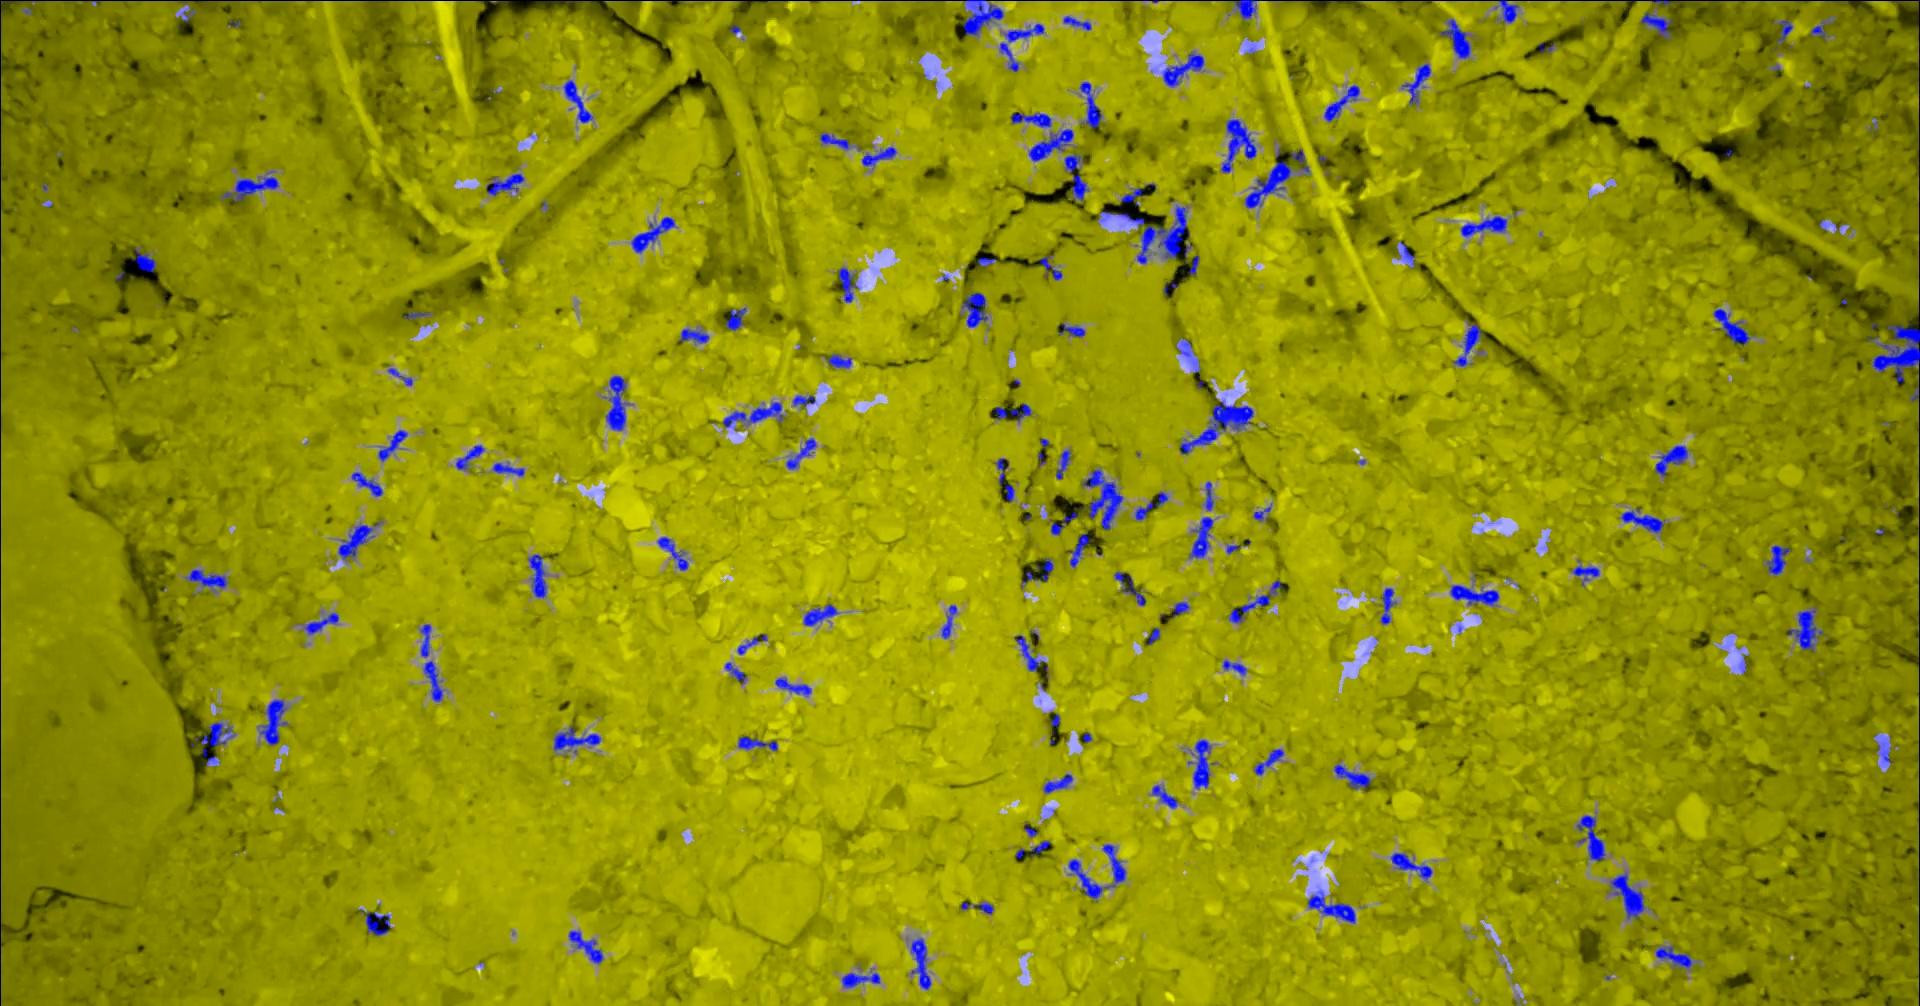ant: (1068, 843, 1125, 898), (1244, 147, 1291, 207), (1082, 469, 1123, 528), (1228, 580, 1283, 622), (1220, 119, 1256, 171), (194, 721, 235, 765), (1307, 890, 1355, 923), (631, 216, 674, 251), (1610, 874, 1644, 918), (1787, 608, 1822, 650), (723, 401, 783, 426), (1029, 128, 1073, 161), (963, 0, 1003, 36), (604, 375, 630, 431), (220, 177, 278, 201), (1162, 52, 1203, 86), (1015, 634, 1048, 676), (1713, 307, 1750, 344), (337, 525, 375, 559), (1439, 18, 1470, 58), (1187, 739, 1214, 788), (1323, 85, 1359, 121), (563, 79, 592, 122), (552, 725, 599, 752), (1576, 815, 1604, 860), (259, 699, 286, 744), (1453, 323, 1481, 366), (1401, 64, 1430, 104), (1620, 507, 1663, 533), (1064, 152, 1088, 199), (568, 930, 602, 963), (1390, 852, 1432, 879), (1112, 572, 1145, 605), (657, 536, 688, 570), (1655, 445, 1688, 476), (1189, 516, 1213, 558), (910, 937, 930, 989), (1079, 81, 1101, 127), (1460, 215, 1506, 236), (1450, 584, 1498, 605), (785, 437, 815, 469), (378, 429, 408, 461), (1134, 492, 1167, 520), (1333, 763, 1371, 788), (485, 173, 523, 196), (961, 292, 987, 326), (1641, 11, 1671, 39), (1021, 558, 1051, 586), (527, 554, 546, 597), (994, 459, 1013, 500), (1655, 945, 1691, 967), (423, 661, 442, 701), (861, 146, 897, 168), (803, 603, 838, 625), (350, 471, 382, 495), (1067, 533, 1090, 567), (1255, 748, 1283, 775), (303, 612, 338, 634), (837, 267, 857, 302), (185, 569, 226, 587), (361, 909, 389, 935), (1766, 545, 1790, 574), (775, 677, 811, 696), (990, 403, 1030, 420), (1004, 23, 1043, 41), (455, 445, 483, 469), (737, 633, 767, 654), (1010, 112, 1051, 127), (131, 246, 155, 272), (1050, 511, 1077, 533), (1150, 785, 1177, 808), (1571, 559, 1599, 580), (1037, 255, 1062, 279), (841, 972, 879, 987), (737, 735, 777, 749), (1380, 587, 1396, 624), (999, 42, 1018, 71), (1043, 774, 1072, 793), (1229, 0, 1257, 19), (819, 132, 850, 149), (941, 605, 956, 638), (1495, 0, 1517, 22), (1289, 149, 1309, 173), (1120, 187, 1145, 206), (724, 662, 745, 683), (725, 307, 745, 330), (1055, 450, 1070, 479), (387, 367, 411, 385), (1063, 15, 1091, 30), (491, 462, 524, 475), (679, 328, 709, 342), (1057, 323, 1084, 337), (960, 902, 993, 913), (1777, 19, 1792, 43), (1651, 0, 1721, 5), (1399, 241, 1415, 264), (420, 622, 430, 657), (1222, 661, 1246, 674), (1029, 840, 1050, 855), (827, 354, 851, 367), (1170, 601, 1189, 616), (1204, 481, 1213, 511), (1810, 22, 1825, 38), (1176, 339, 1191, 356), (792, 395, 815, 405), (1163, 279, 1177, 296), (1253, 506, 1270, 520), (1877, 744, 1890, 762), (1147, 627, 1159, 644), (1049, 713, 1059, 733), (1189, 255, 1199, 274), (403, 311, 428, 319), (977, 257, 996, 265), (177, 0, 234, 1)
